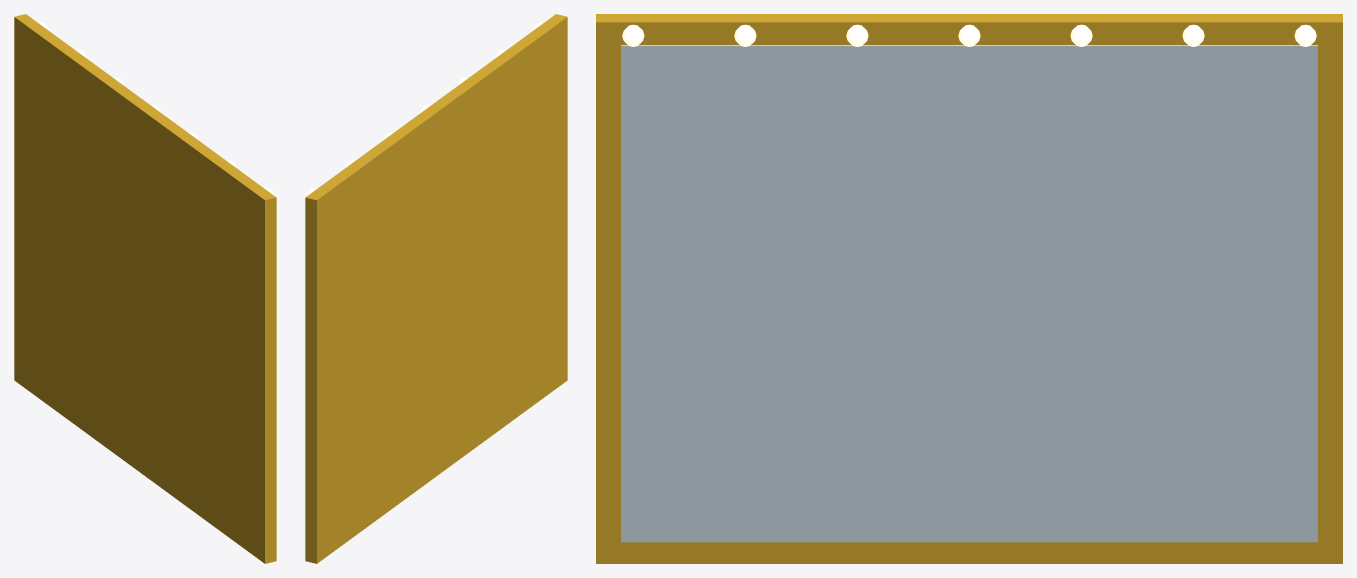
File: giant_mirror.glb
The picture shows the model from 3 angles, left to right: view 1: azimuth 30°, elevation 25°; view 2: azimuth 150°, elevation 25°; view 3: azimuth 270°, elevation 25°; orthographic projection. The views are drawn at different scales.
Parts seen in each view (by area): view 1: frame_mirror_gold; view 2: frame_mirror_gold; view 3: glass_mirror_glass, frame_mirror_gold, bulb_mirror_bulb.
Part boxes in pixels (left/top/right/bottom): frame_mirror_gold: left=14, top=14, right=276, bottom=563; frame_mirror_gold: left=305, top=14, right=567, bottom=563; glass_mirror_glass: left=621, top=45, right=1317, bottom=542; frame_mirror_gold: left=596, top=14, right=1342, bottom=563; bulb_mirror_bulb: left=622, top=24, right=1316, bottom=46.
Size of the model in its own units: 0.145 by 2.4 by 3.
